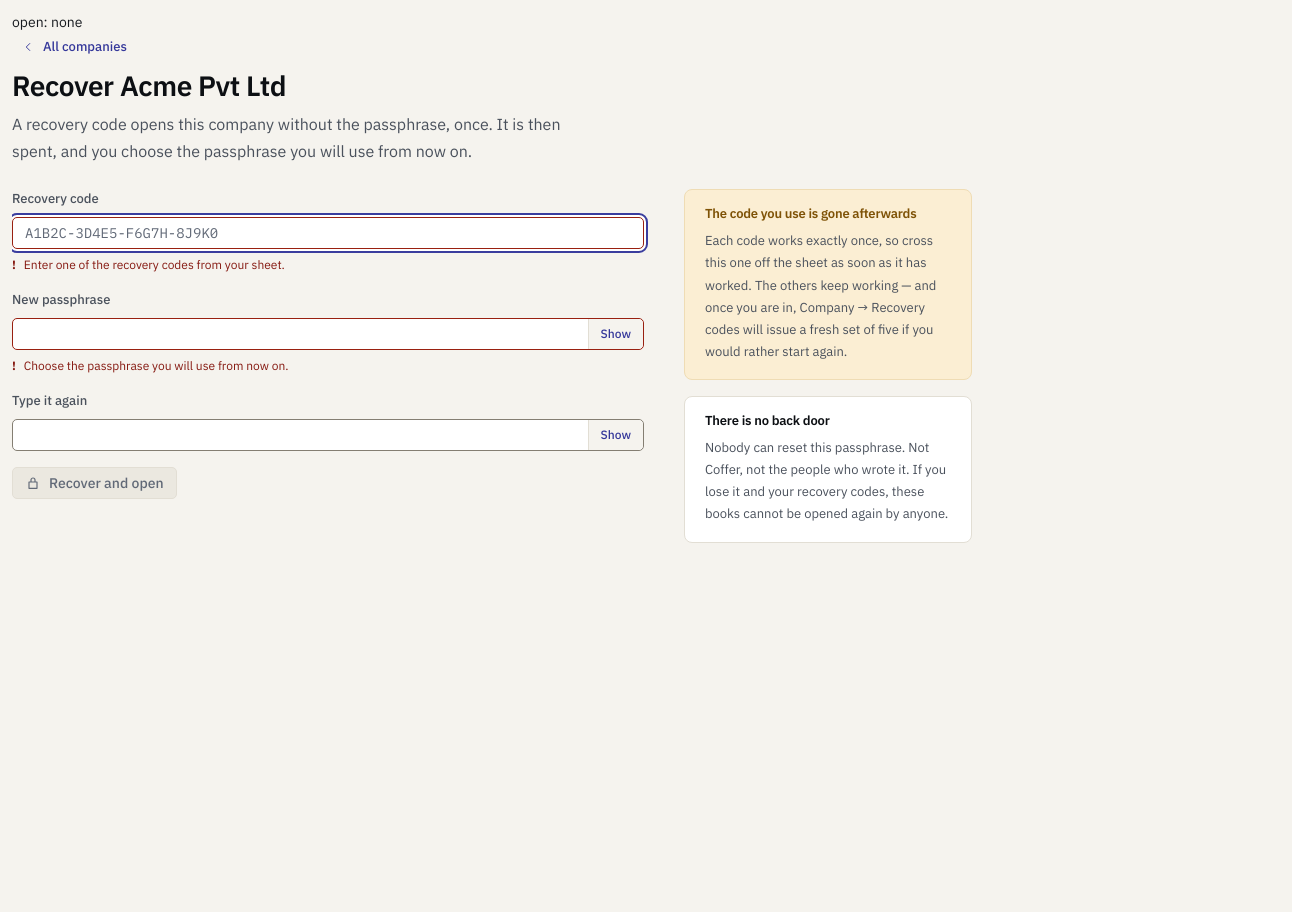
Test case: using a recovery code › spends the code, sets the passphrase and opens the books
The width and height of the screenshot is (1292, 912).
Type "  A1B2C-3D4E5-F6G7H-8J9K0  " into the field labelled "Recovery code".
click(328, 233); type("  A1B2C-3D4E5-F6G7H-8J9K0  ")  # box [12,217,644,249]
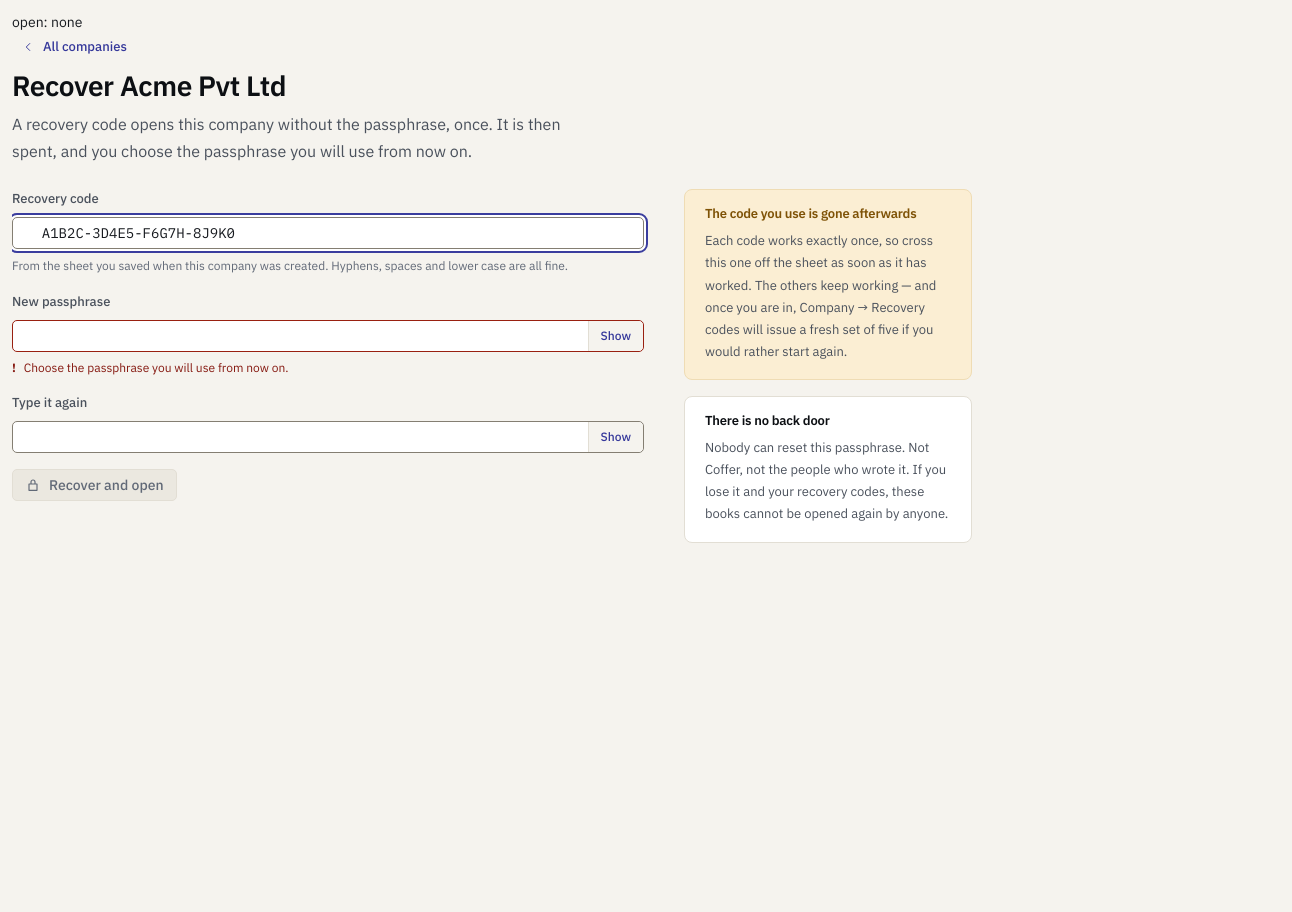
Type "brass ledger monsoon forty" into the password field labelled "New passphrase".
click(328, 336); type("brass ledger monsoon forty")  # box [12,320,644,352]
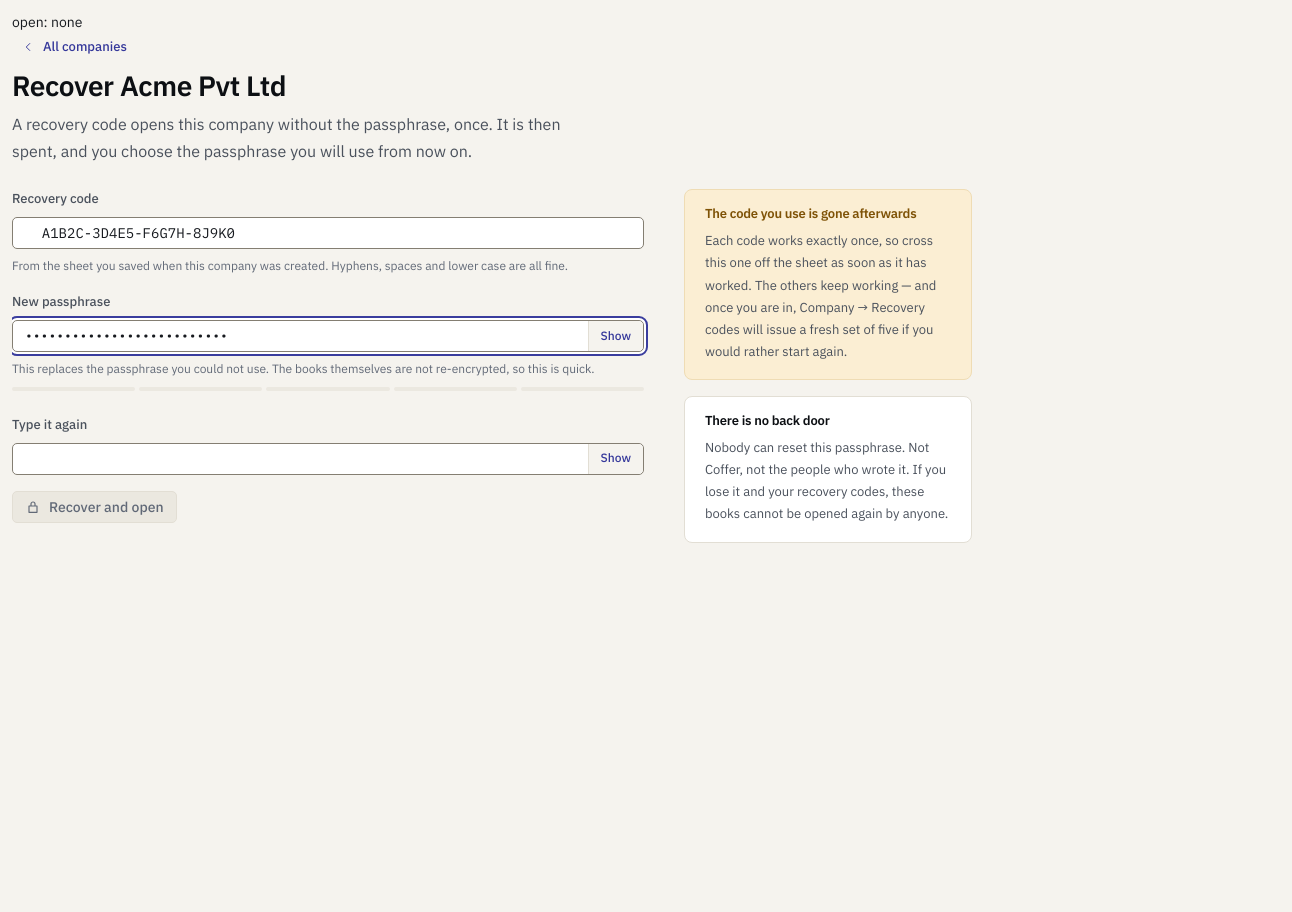
Type "brass ledger monsoon forty" into the password field labelled "Type it again".
click(328, 459); type("brass ledger monsoon forty")  # box [12,443,644,475]
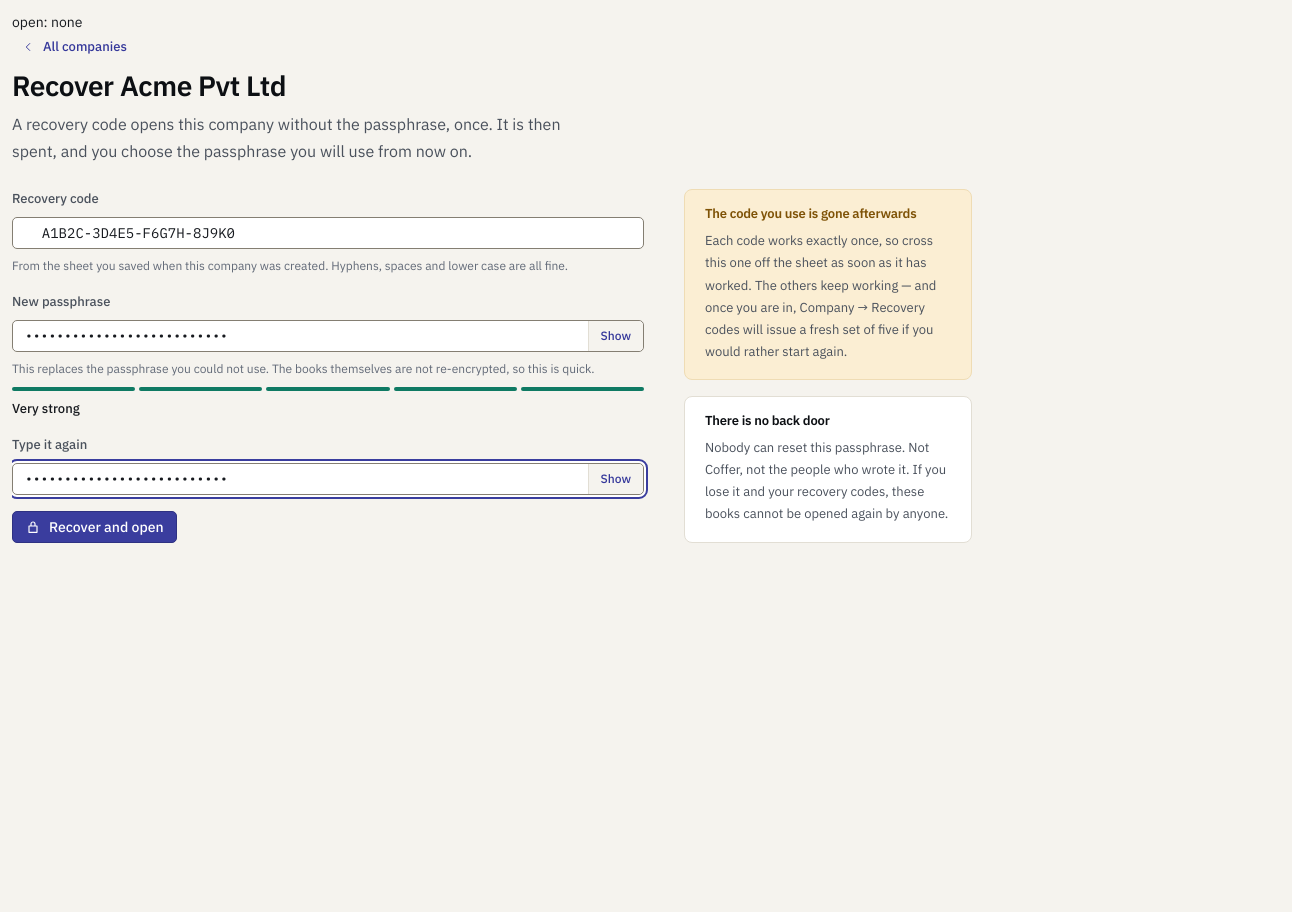
Click the button "Recover and open".
click(94, 527)  # box [12,511,177,543]
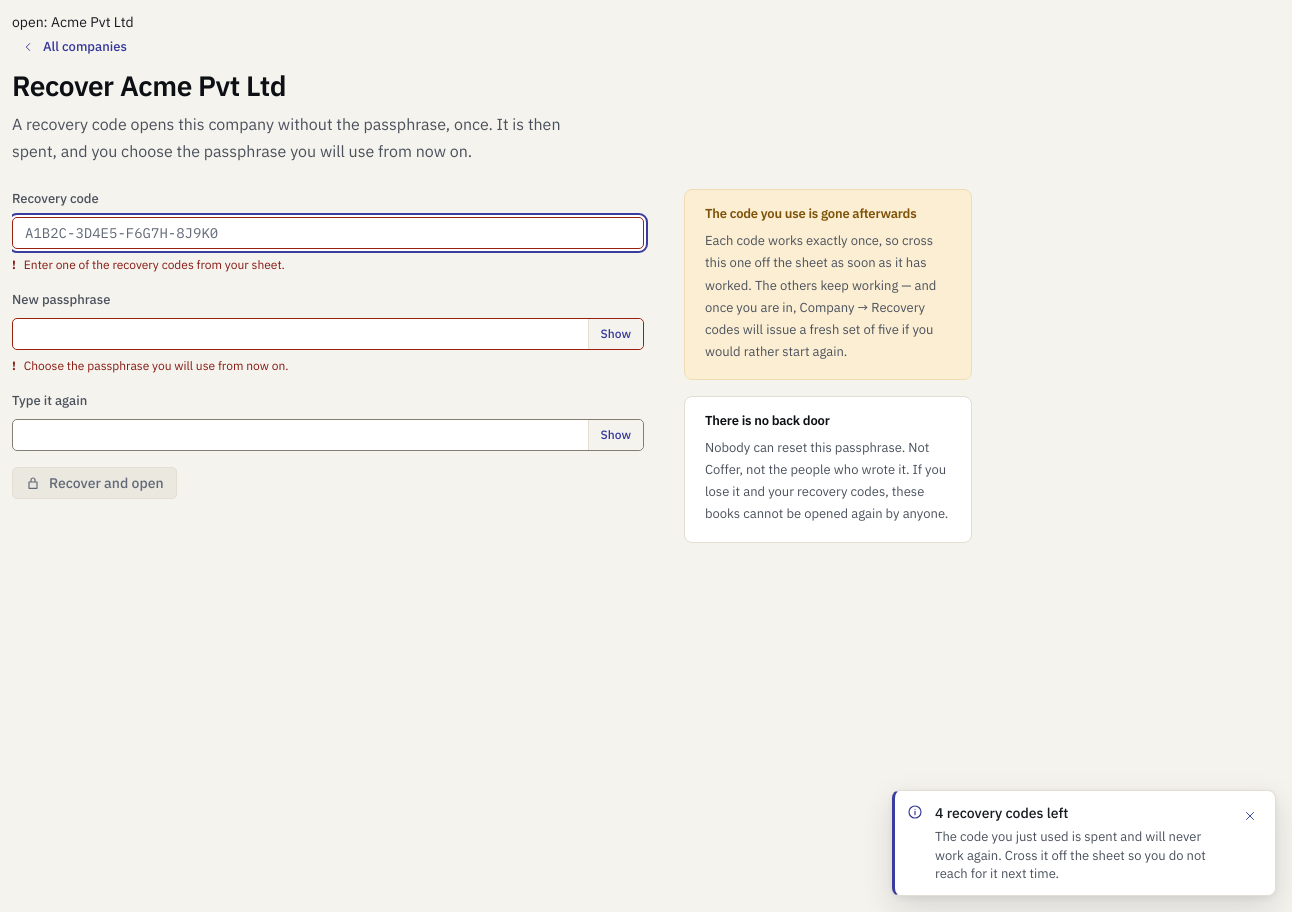
Expected: the text "open: Acme Pvt Ltd" is shown, [12,13,134,31]
